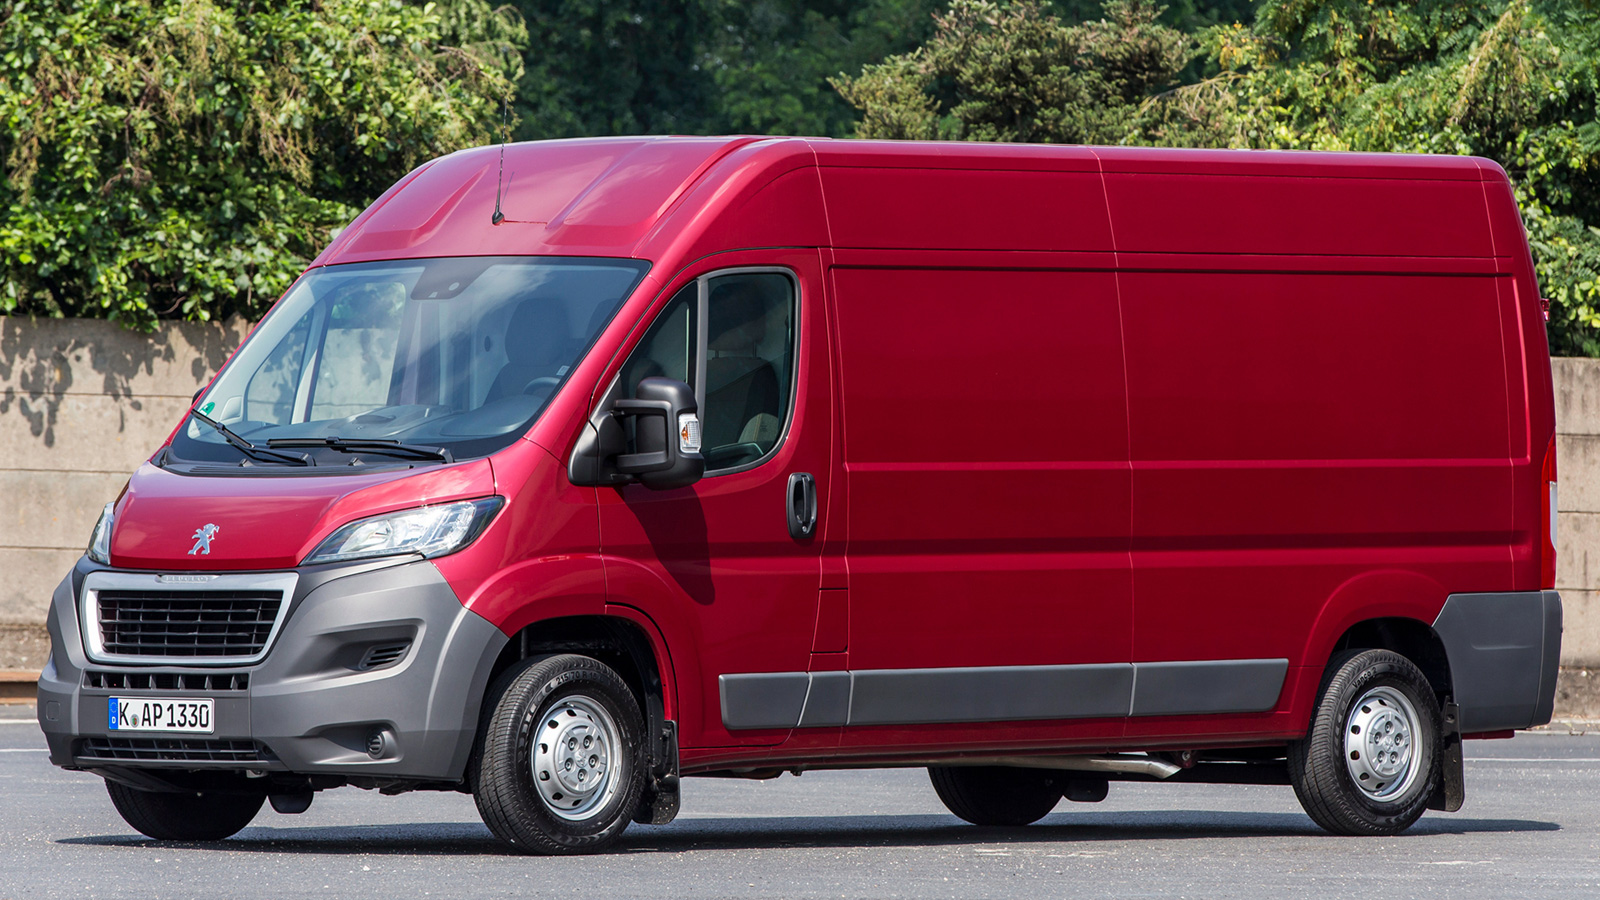van: (27, 132, 1568, 851)
